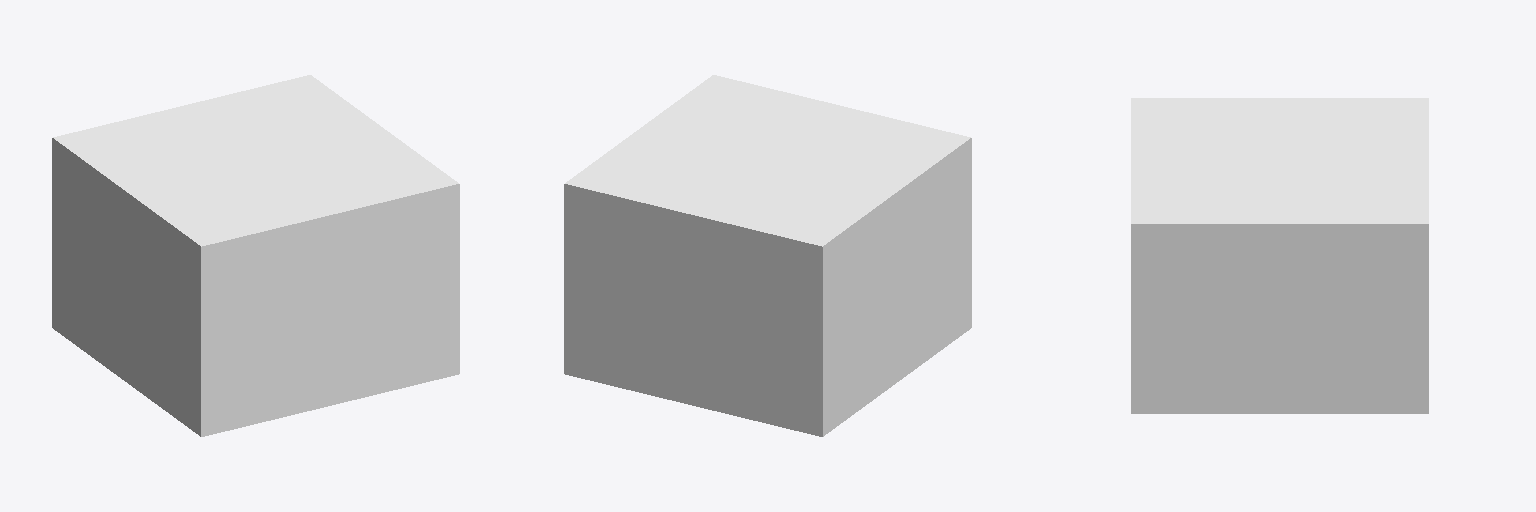
File: Tile5.obj
3 views of the same model, side by side, from view 1: azimuth 30°, elevation 25°; view 2: azimuth 150°, elevation 25°; view 3: azimuth 270°, elevation 25° (orthographic).
Visible parts, largest first — view 1: Tile5; view 2: Tile5; view 3: Tile5.
Part boxes in pixels (left/top/right/bottom): Tile5: left=52, top=75, right=459, bottom=436; Tile5: left=564, top=75, right=971, bottom=436; Tile5: left=1131, top=98, right=1428, bottom=413.
Bounding box in the file's own units: 17 × 12 × 17.